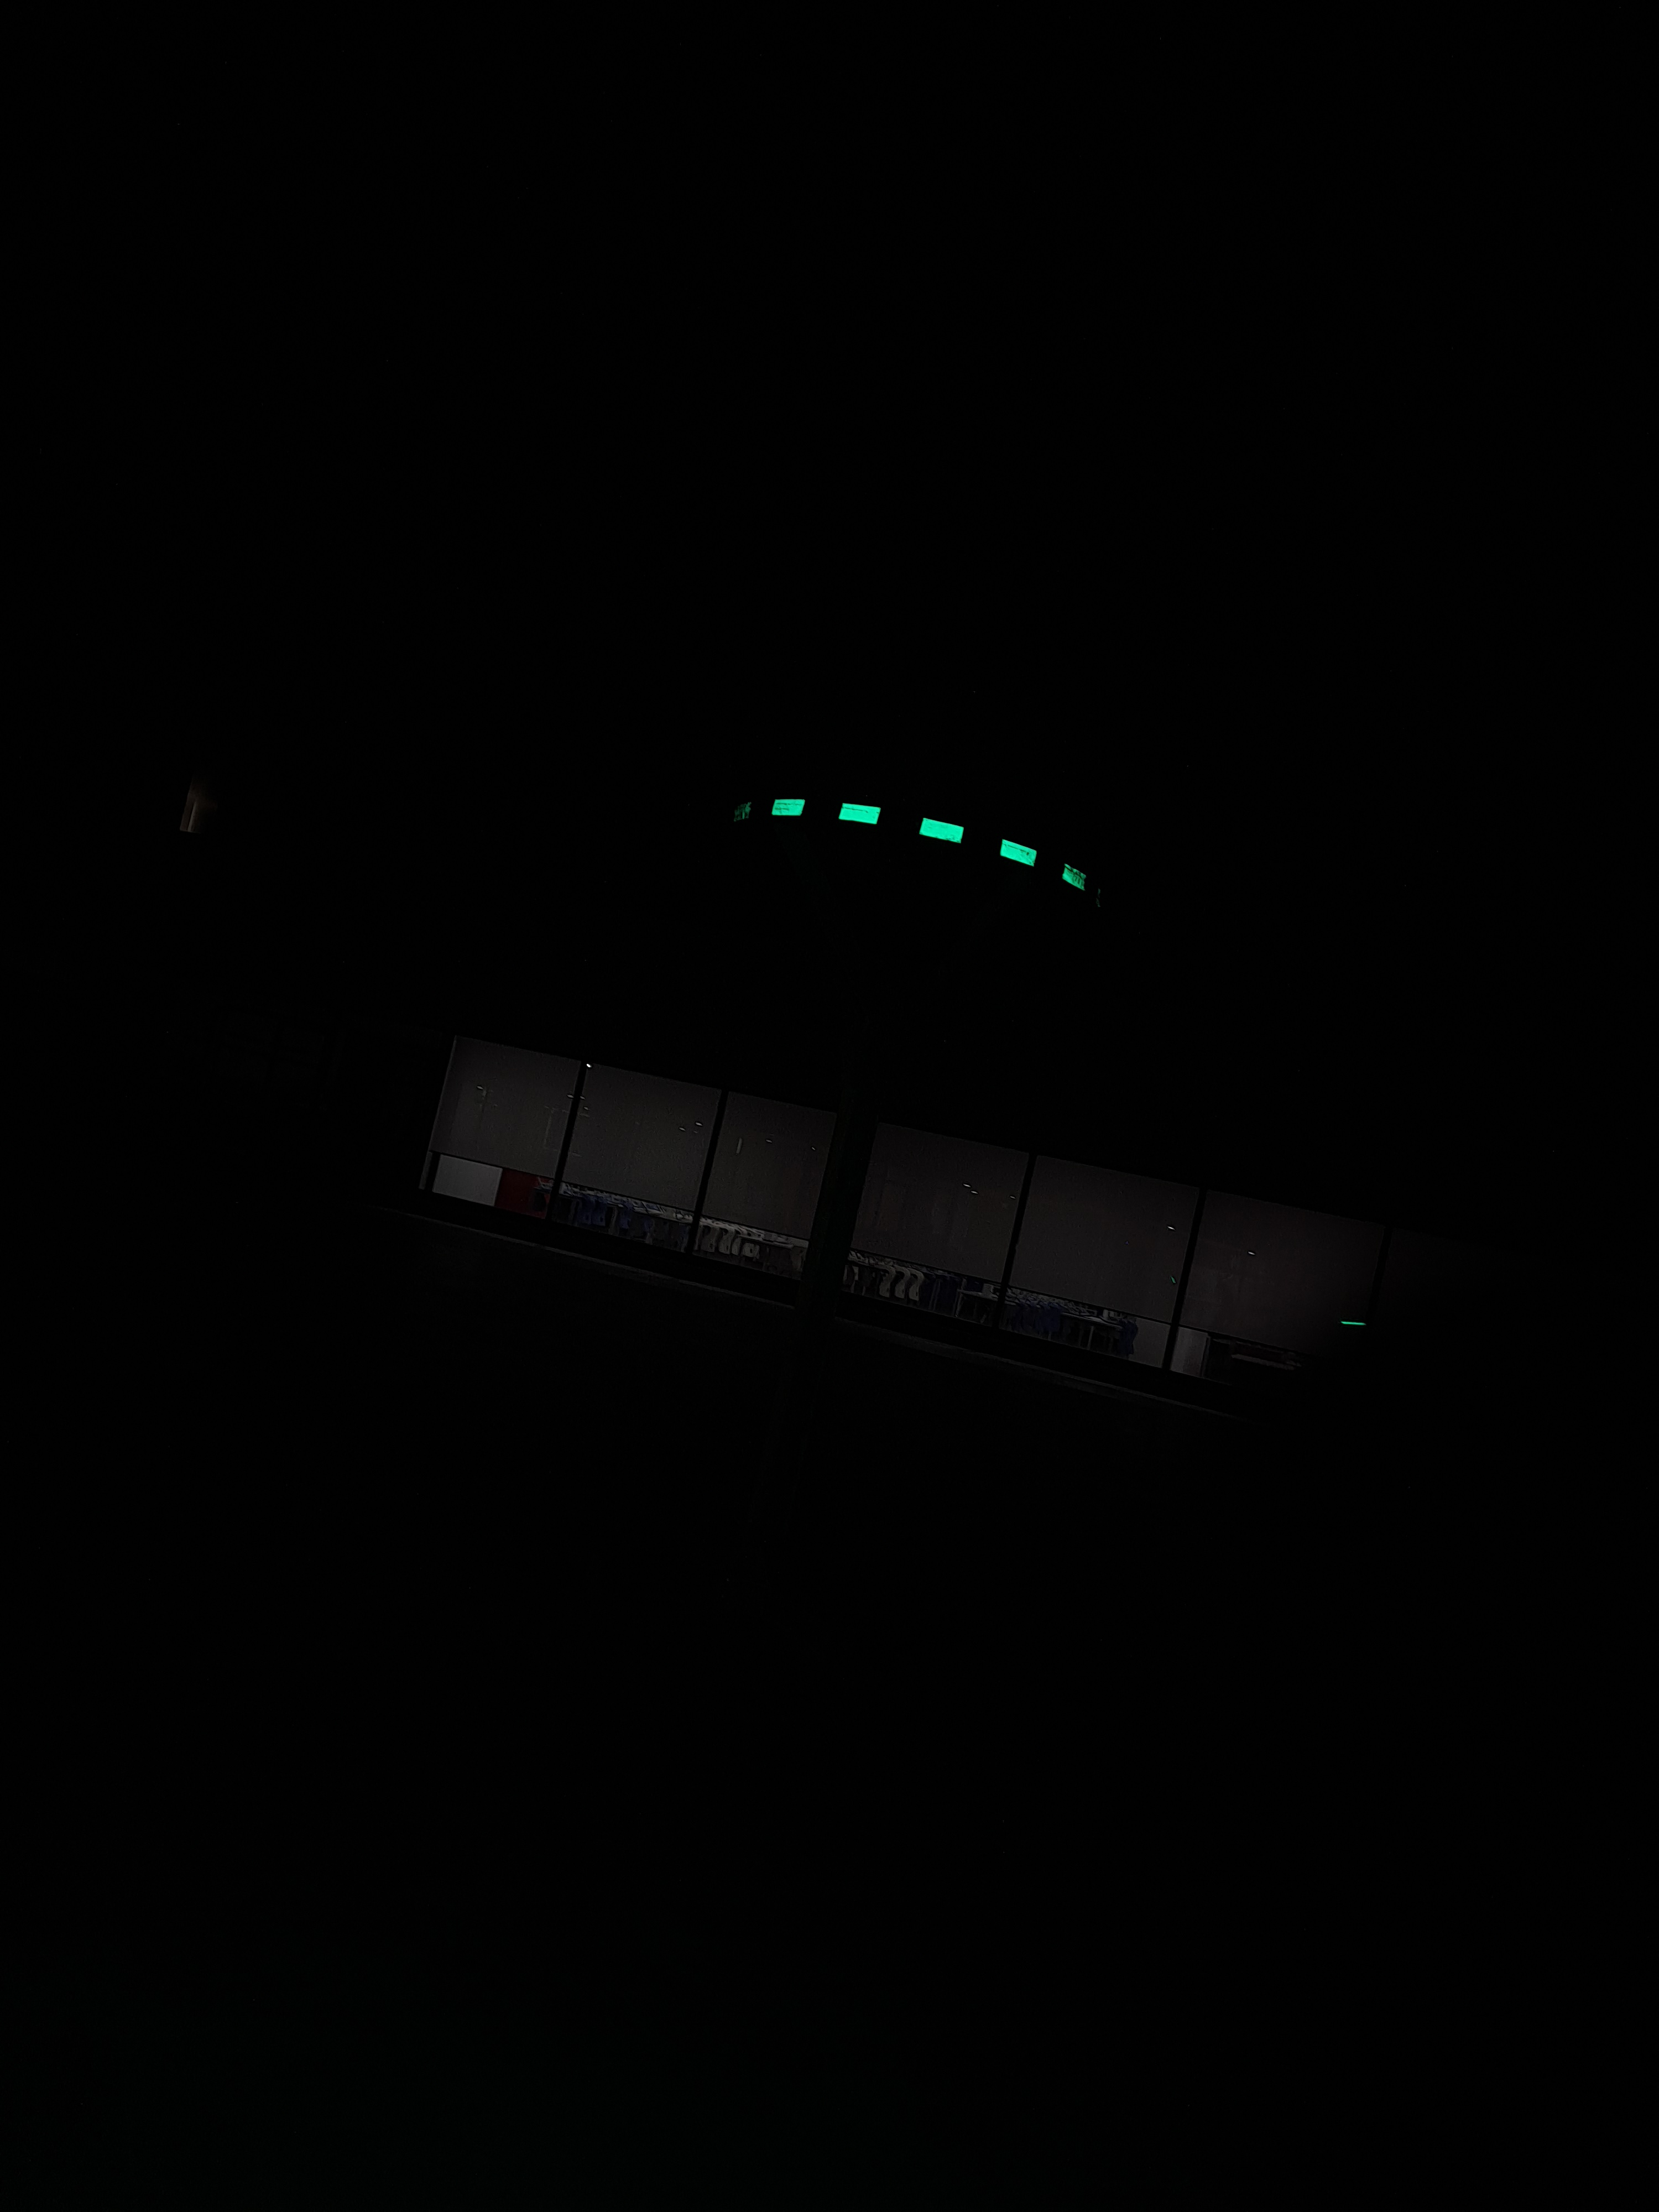hoop: (767, 782, 1091, 900)
